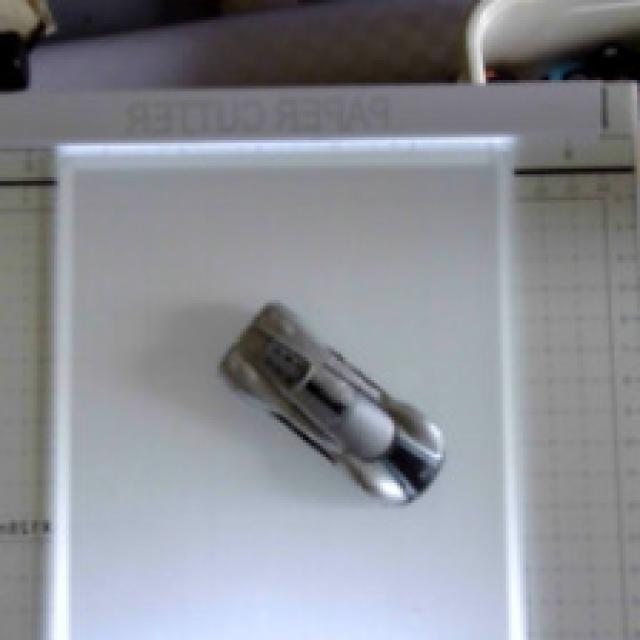Grey Car: (181, 283, 484, 543)
